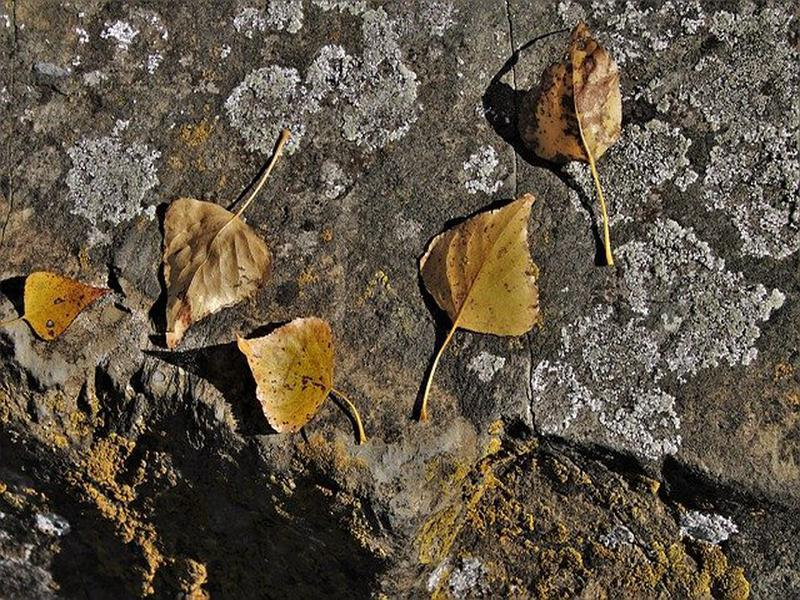leaf: (404, 191, 547, 424), (145, 127, 285, 353), (524, 21, 640, 266), (233, 311, 376, 448), (1, 254, 119, 346)
